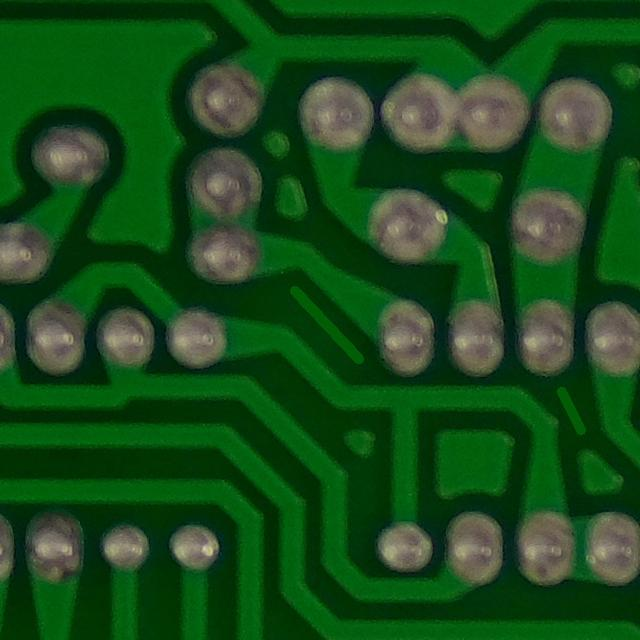spurious_copper: (269, 263, 372, 377)
